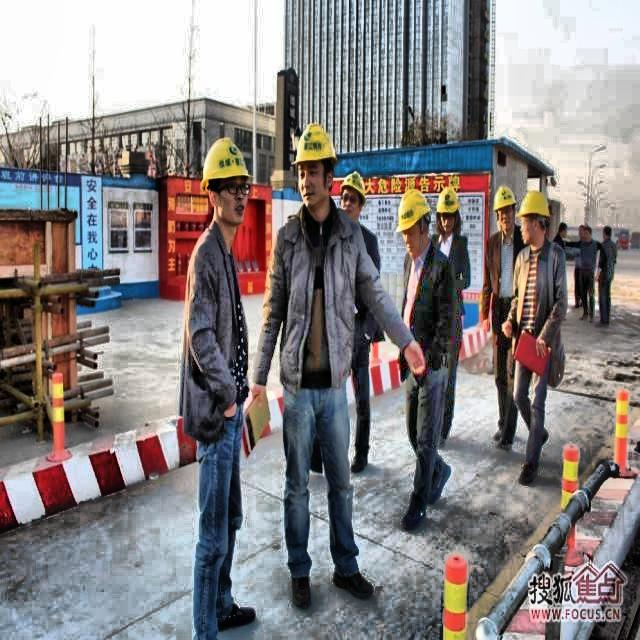person: (278, 129, 375, 602), (174, 138, 259, 632), (389, 186, 452, 515), (514, 186, 562, 484), (594, 223, 616, 318)
